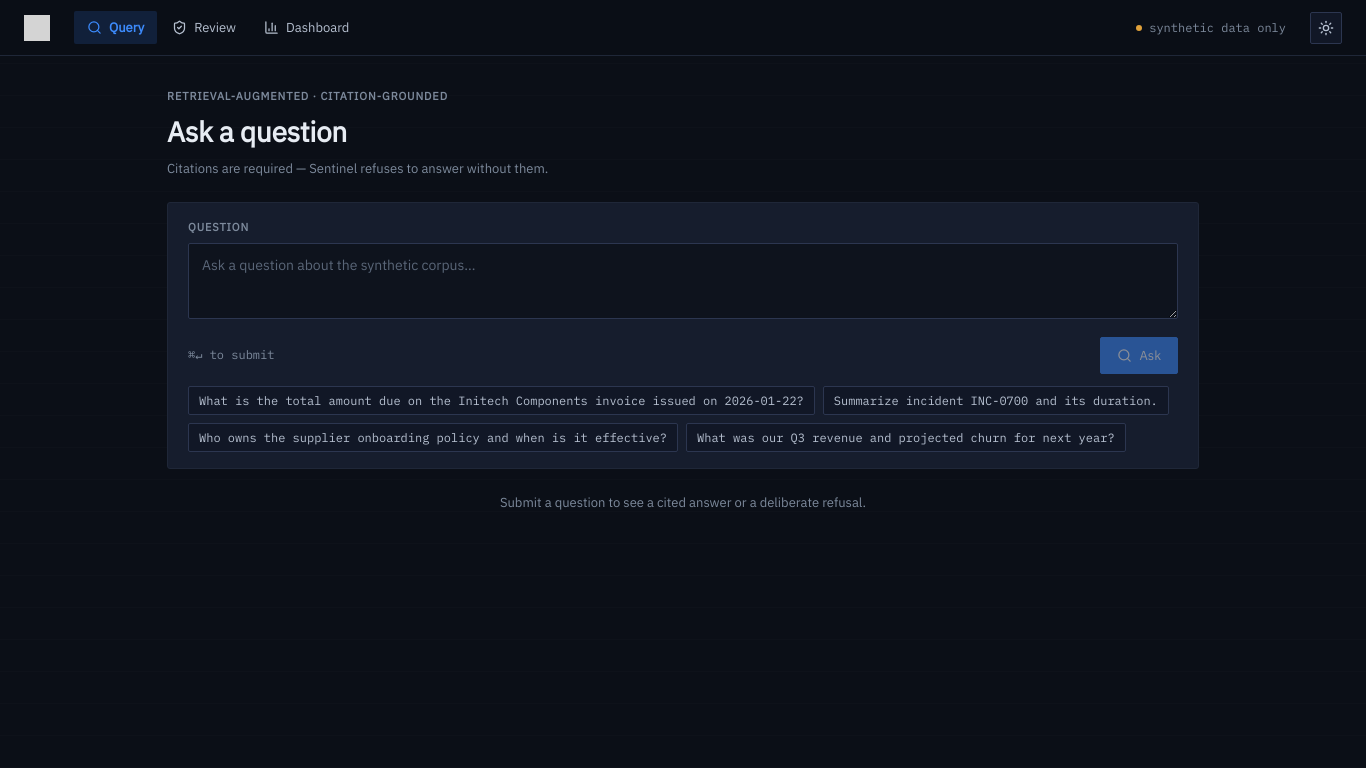
App navigation › preserves existing query parameters when navigating
The image size is (1366, 768).
Click the link "Review".
click(204, 27)  # box [172,19,236,36]
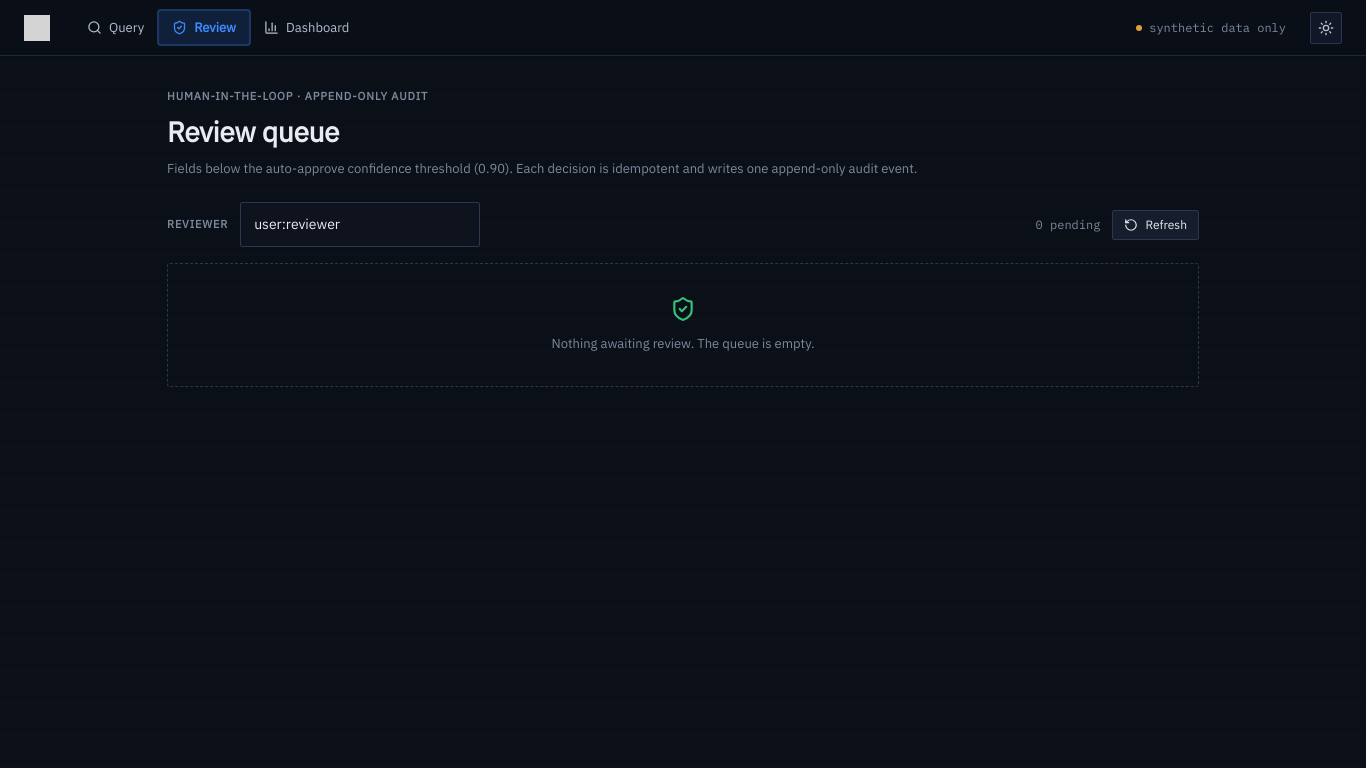
Click the link "Dashboard".
click(307, 27)  # box [264,19,349,36]
(page scrolled)
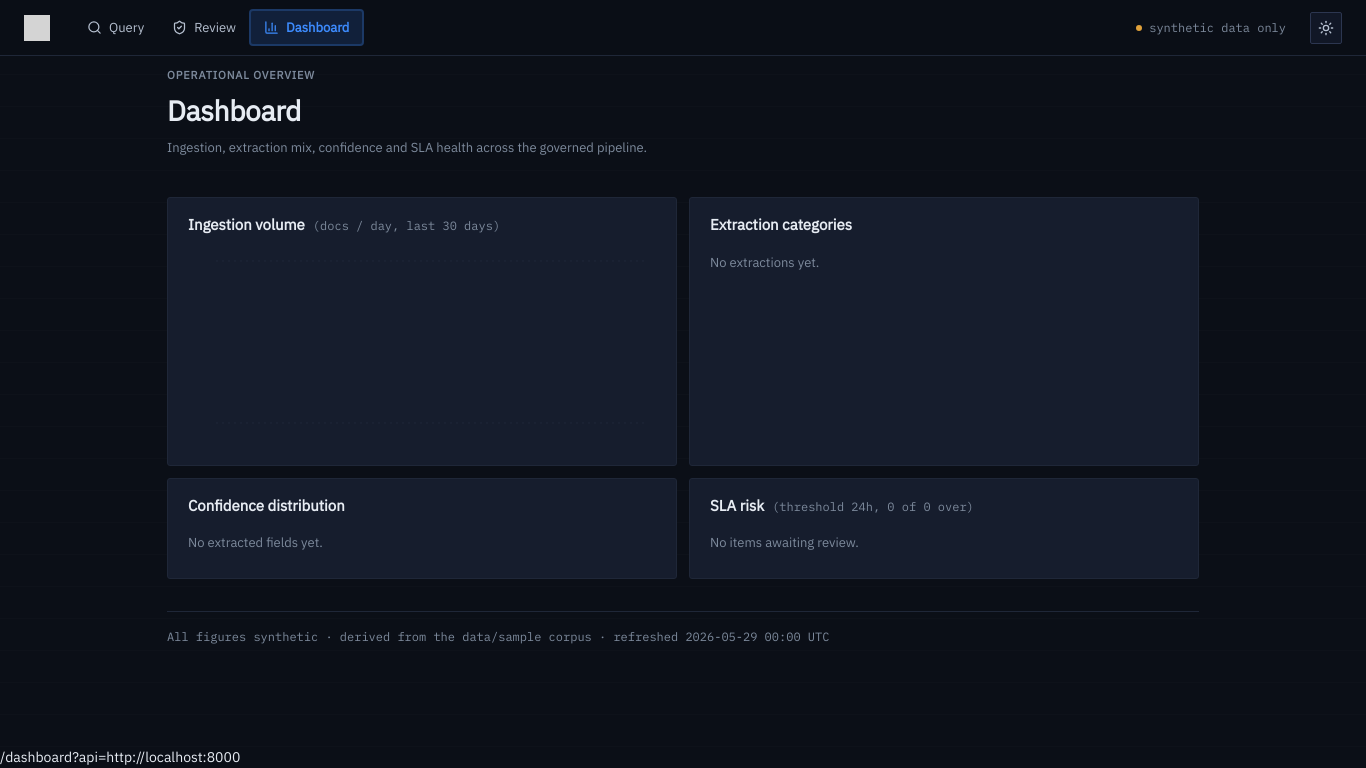
Check: the text named "current location" reads "/dashboard?api=http://localhost:8000", box [0,748,240,766]
